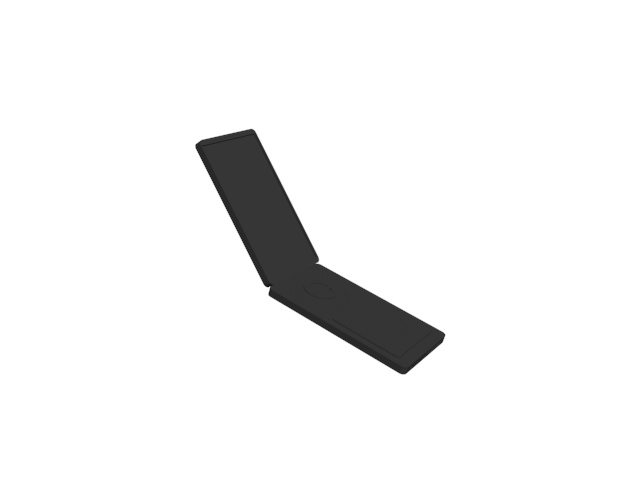mobile_phone: (193, 129, 448, 376)
